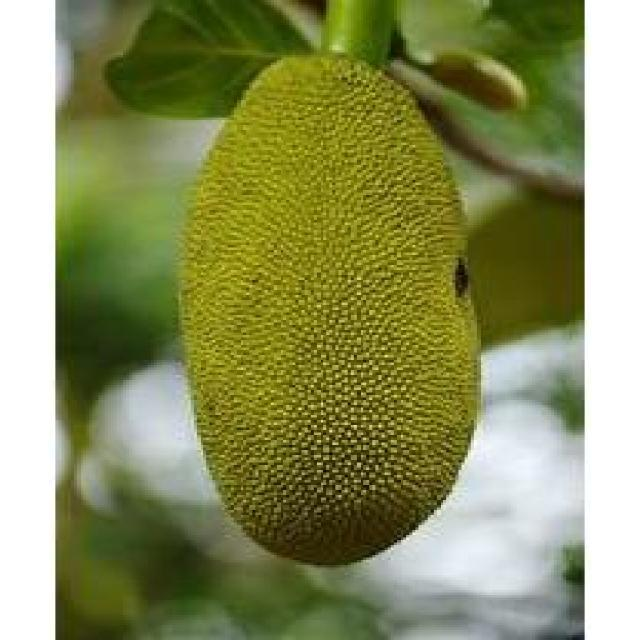Fruit: (154, 208, 508, 592)
